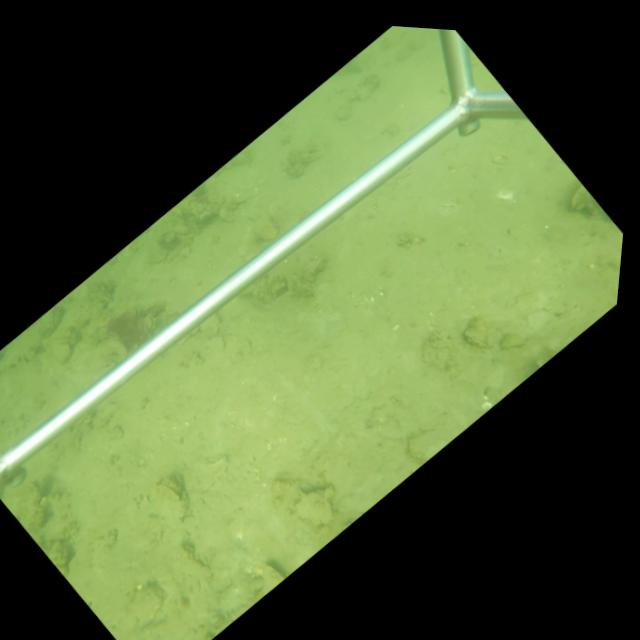Oyster-Closed: (461, 316, 497, 352), (252, 209, 280, 240)
Oyster-Indeterminate: (154, 477, 191, 524), (293, 487, 336, 526)
Oyster-Open: (141, 312, 157, 335)
